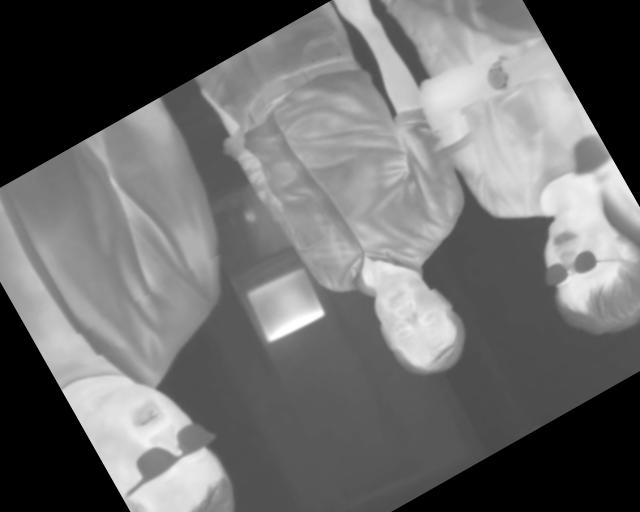face: (73, 358, 263, 512), (518, 190, 640, 356), (357, 257, 481, 392)
